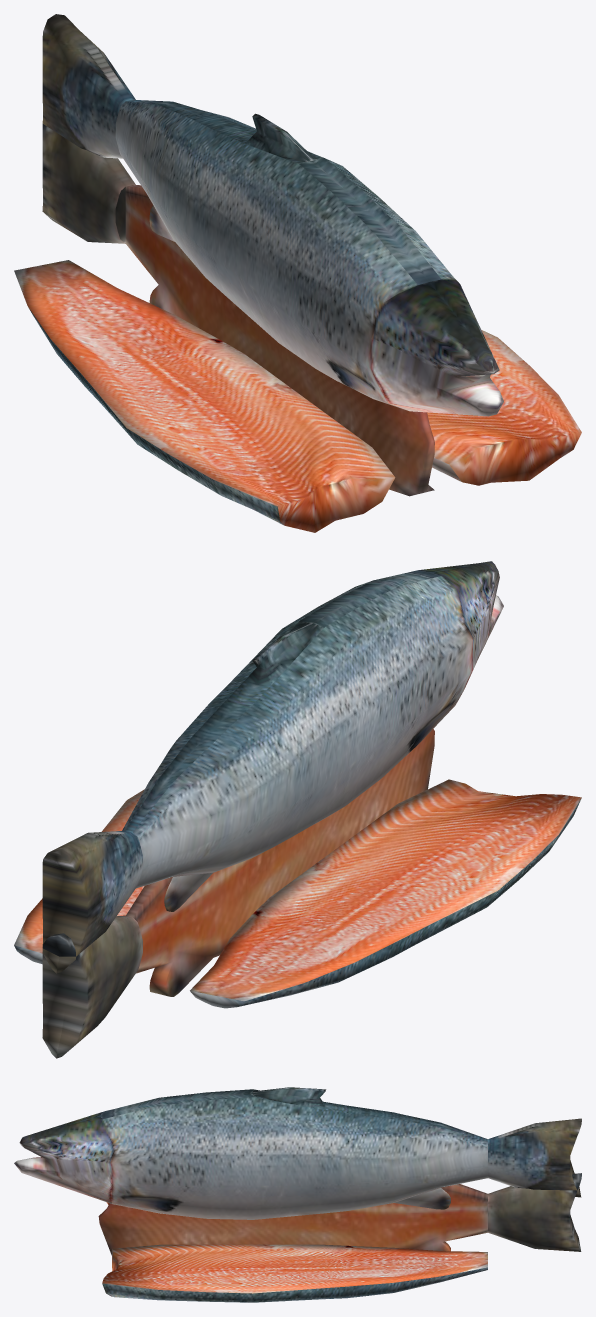
The model's file is Fish_All.glb.
3 renders of one model, top to bottom at view 1: azimuth 30°, elevation 25°; view 2: azimuth 150°, elevation 25°; view 3: azimuth 270°, elevation 25°, orthographic. The views are drawn at different scales.
Parts seen in each view (by area): view 1: FullFish, Fillet, Backbone; view 2: FullFish, Fillet, Backbone; view 3: FullFish, Backbone, Fillet.
Part boxes in pixels (x1=…): FullFish: x1=42, y1=14, x2=503, y2=416; Fillet: x1=14, y1=260, x2=581, y2=532; Backbone: x1=42, y1=124, x2=434, y2=496; FullFish: x1=42, y1=561, x2=503, y2=973; Fillet: x1=14, y1=779, x2=581, y2=1008; Backbone: x1=42, y1=729, x2=434, y2=1058; FullFish: x1=14, y1=1087, x2=581, y2=1219; Backbone: x1=98, y1=1173, x2=581, y2=1255; Fillet: x1=102, y1=1202, x2=487, y2=1302.
Size of the model in its own units: 0.2432 by 0.1803 by 0.5021.
7 materials, 7 textured.
